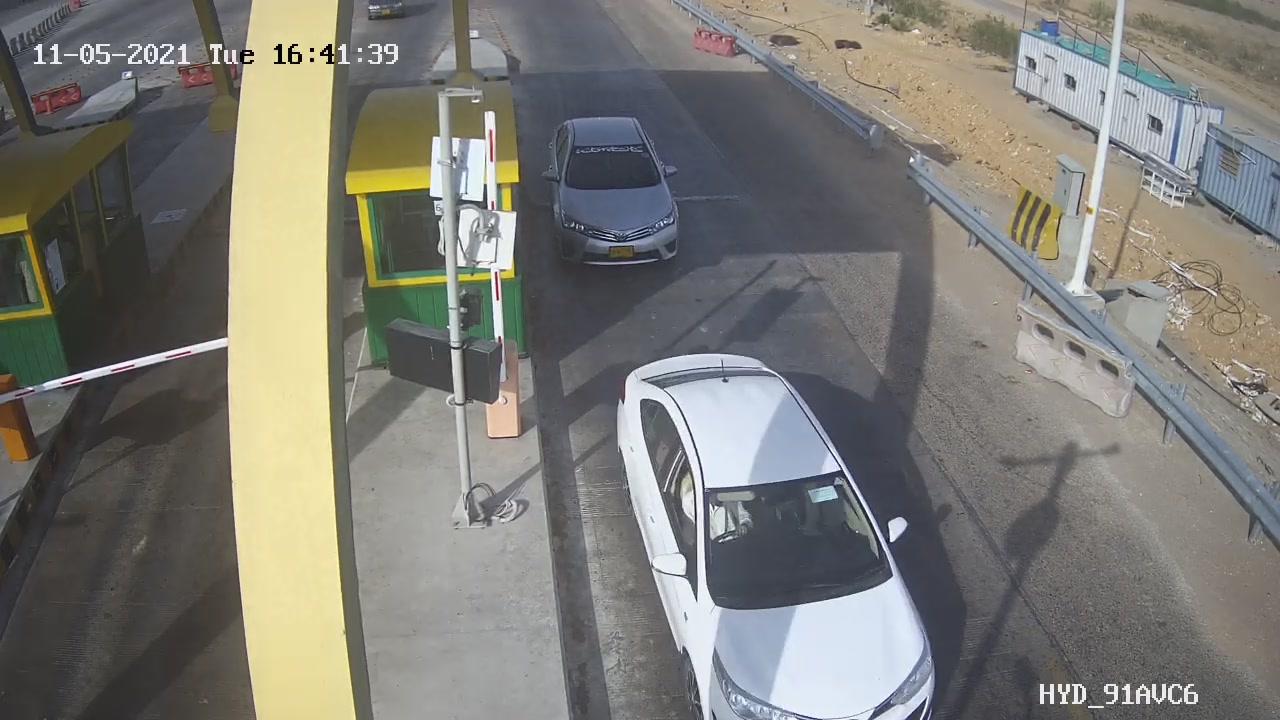F1: (525, 101, 703, 281)
